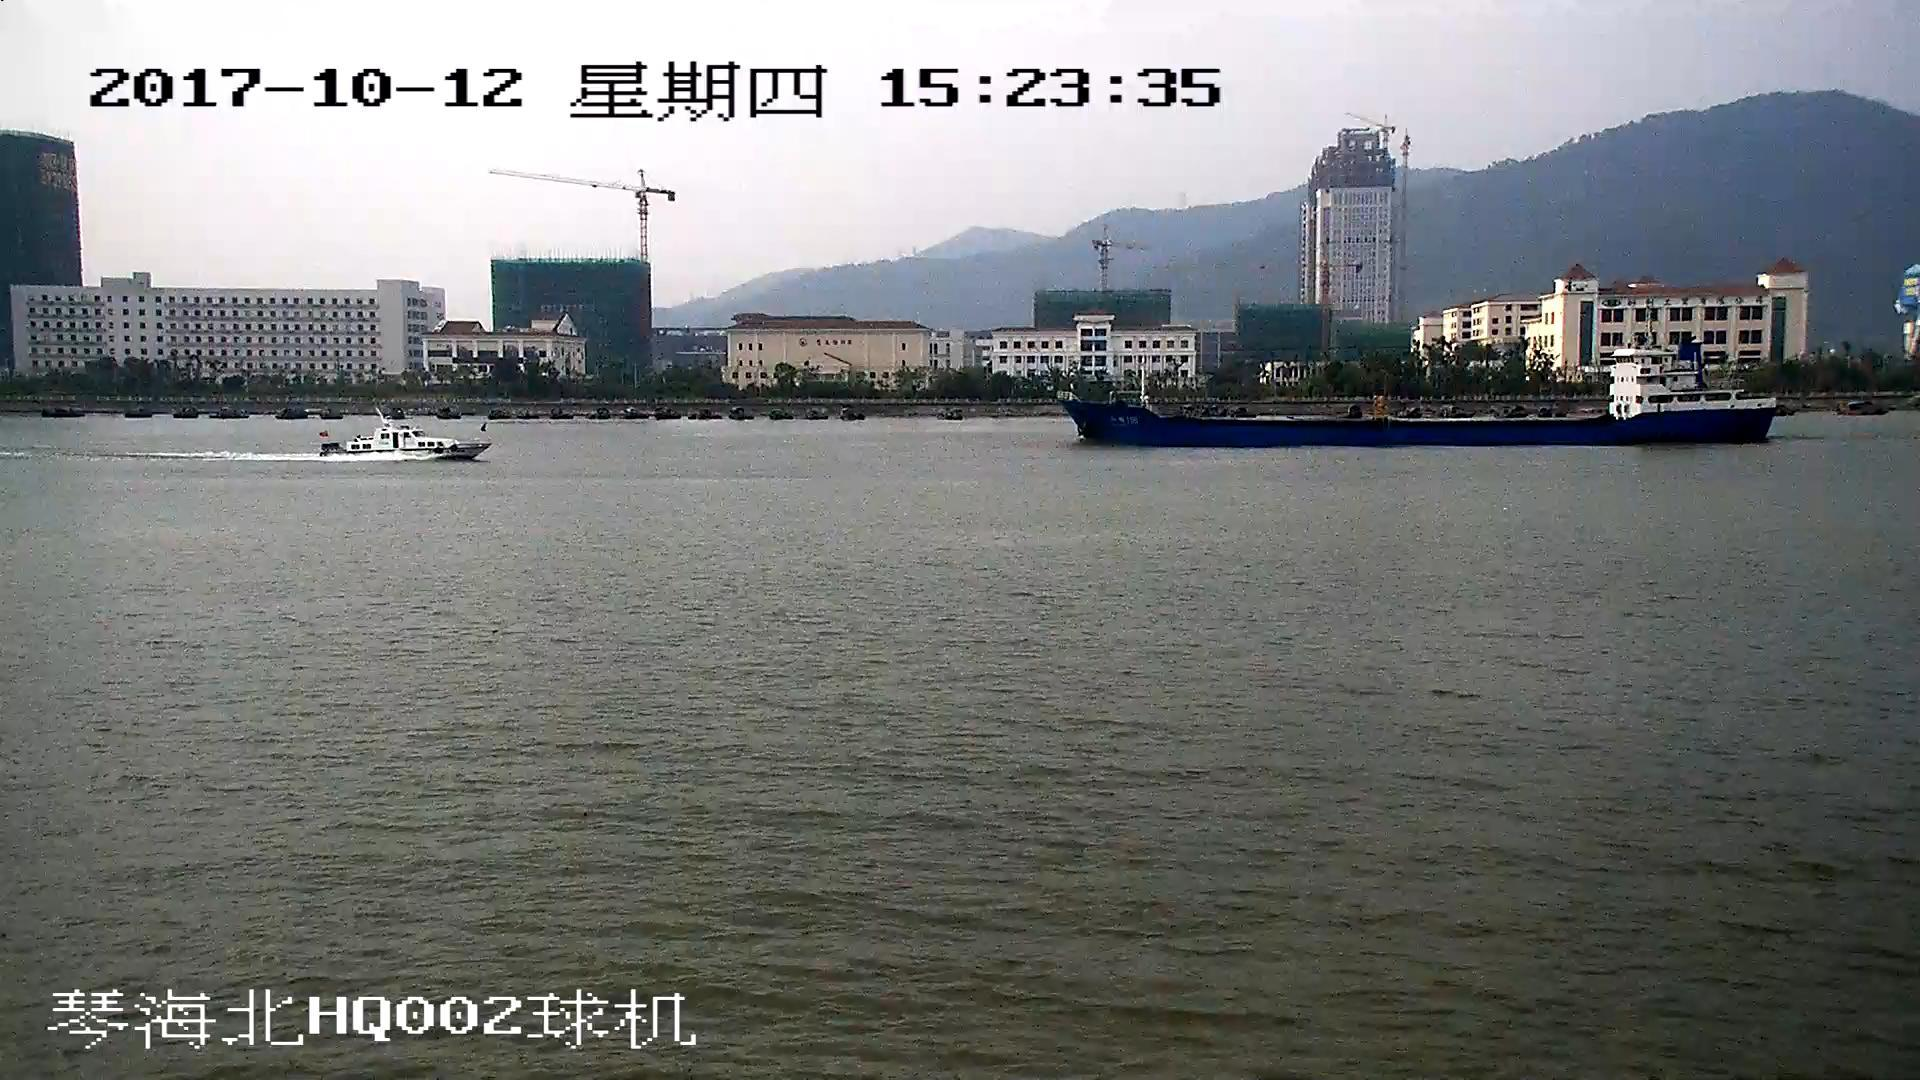Ship: (1073, 320, 1782, 446), (313, 419, 491, 462)
